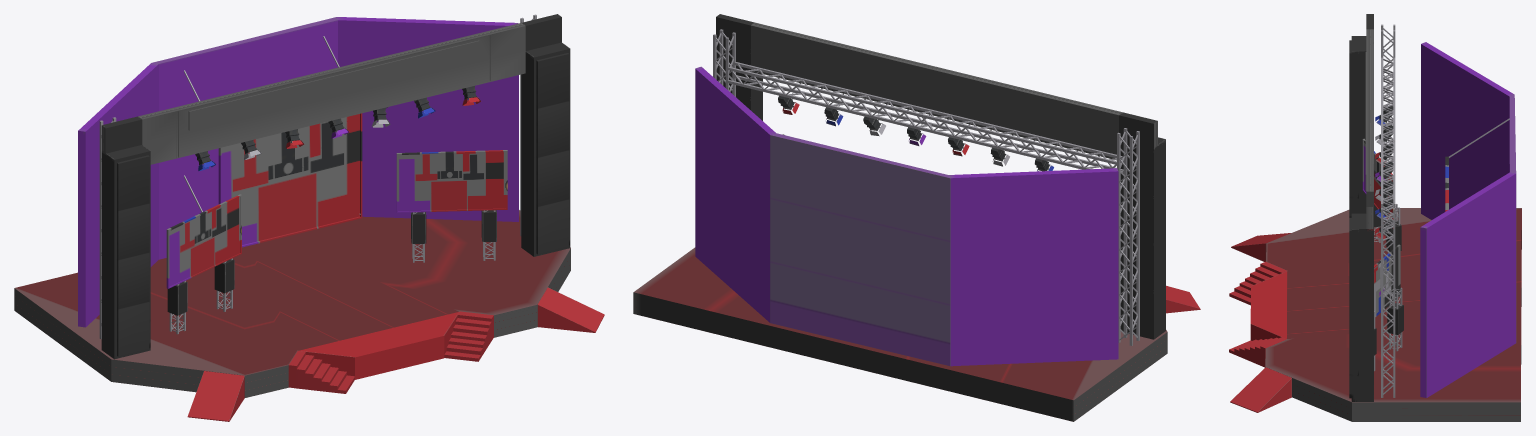
The model's file is concert_stage2.glb.
3 renders of one model, left to right at view 1: azimuth 30°, elevation 25°; view 2: azimuth 150°, elevation 25°; view 3: azimuth 270°, elevation 25°, orthographic. The views are drawn at different scales.
Visible parts, largest first — view 1: Object_3, Object_2; view 2: Object_3, Object_2; view 3: Object_3, Object_2.
Part boxes in pixels (left/top/right/bottom): Object_3: left=14, top=14, right=604, bottom=421; Object_2: left=14, top=36, right=570, bottom=375; Object_3: left=633, top=14, right=1200, bottom=421; Object_2: left=634, top=32, right=1167, bottom=400; Object_3: left=1229, top=14, right=1521, bottom=421; Object_2: left=1250, top=57, right=1521, bottom=402.
Size of the model in its own units: 67.51 by 34.74 by 42.99.
1 material, 1 textured.
